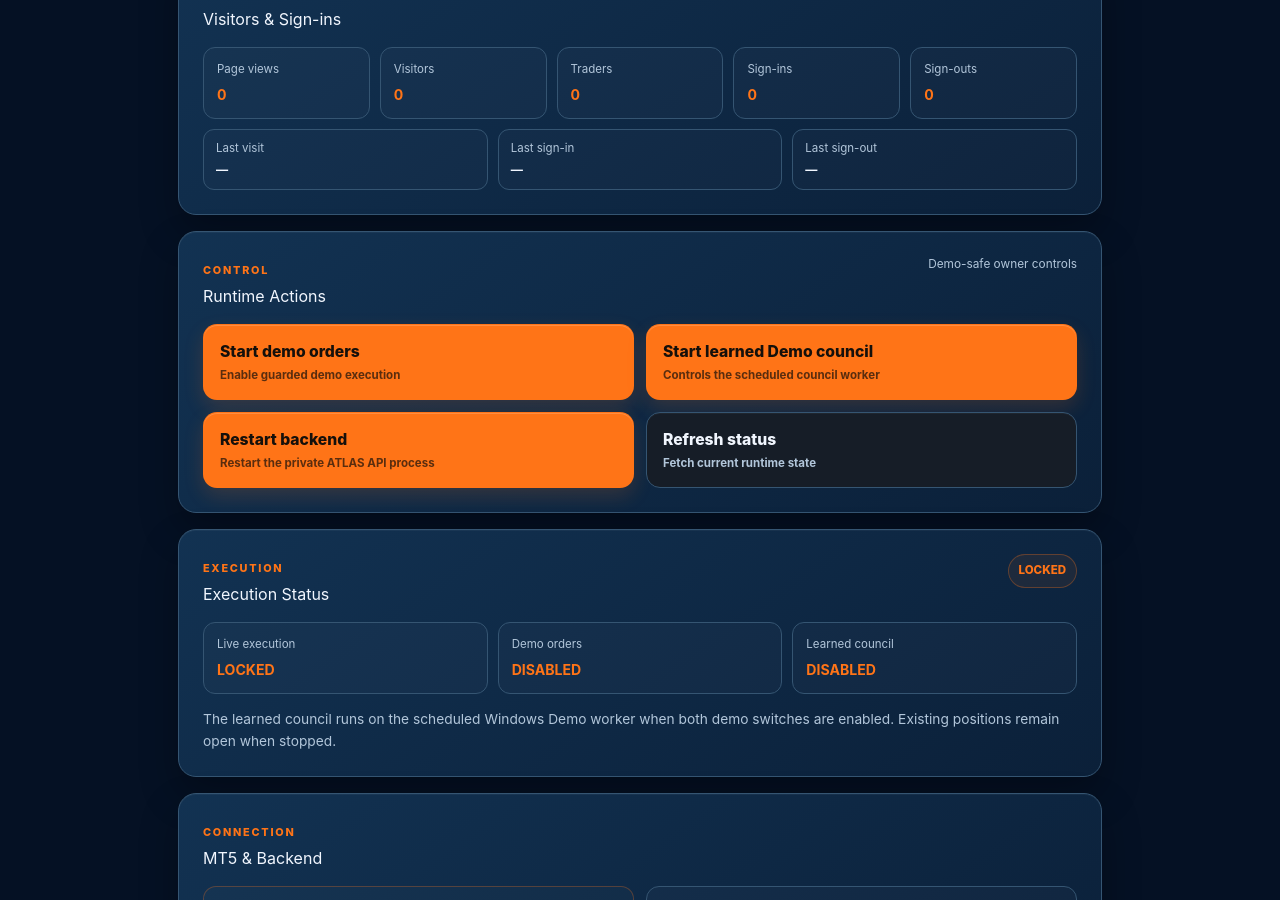
Test: disables trading controls during restart until status confirms recovery
(page scrolled)
Step 1. Click the button "Restart backend" → (284, 439), box [203,412,634,488]
(page scrolled)
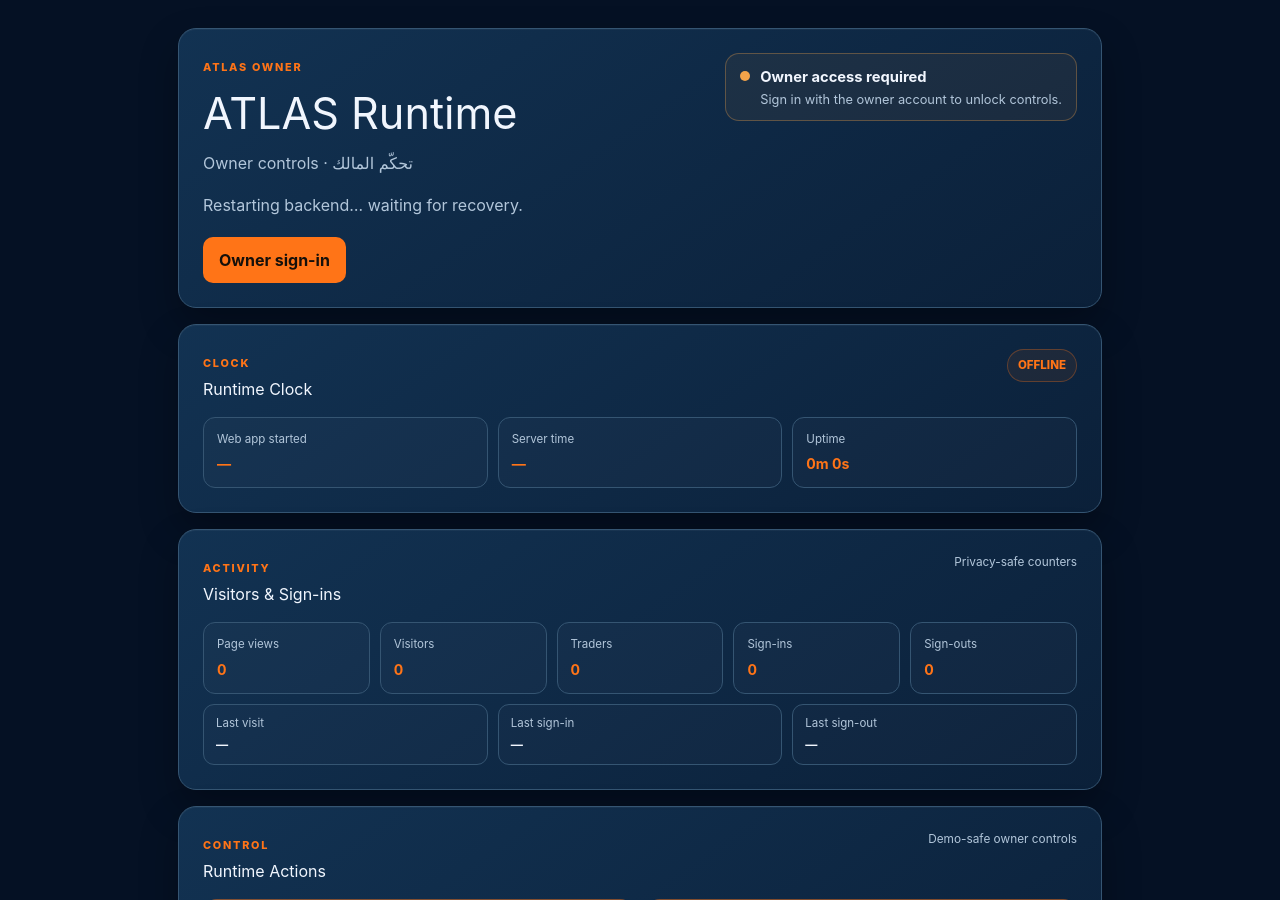
Check: the message shows "Restart", box [203,195,523,215]
